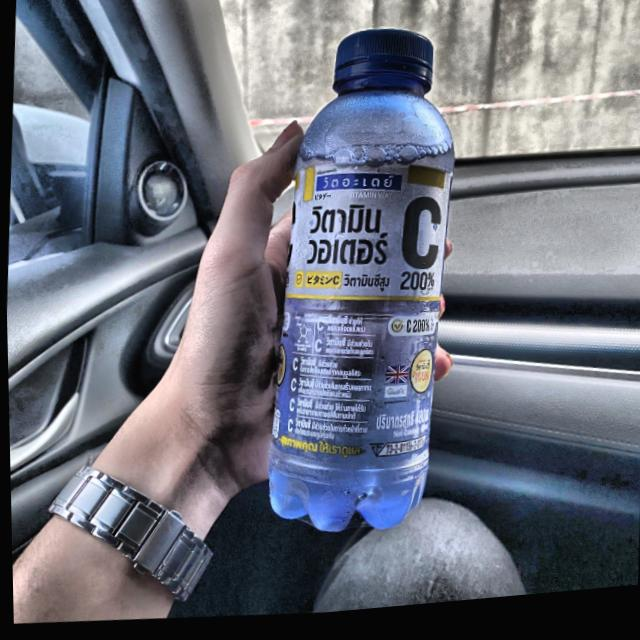Bottles: (239, 0, 490, 570)
